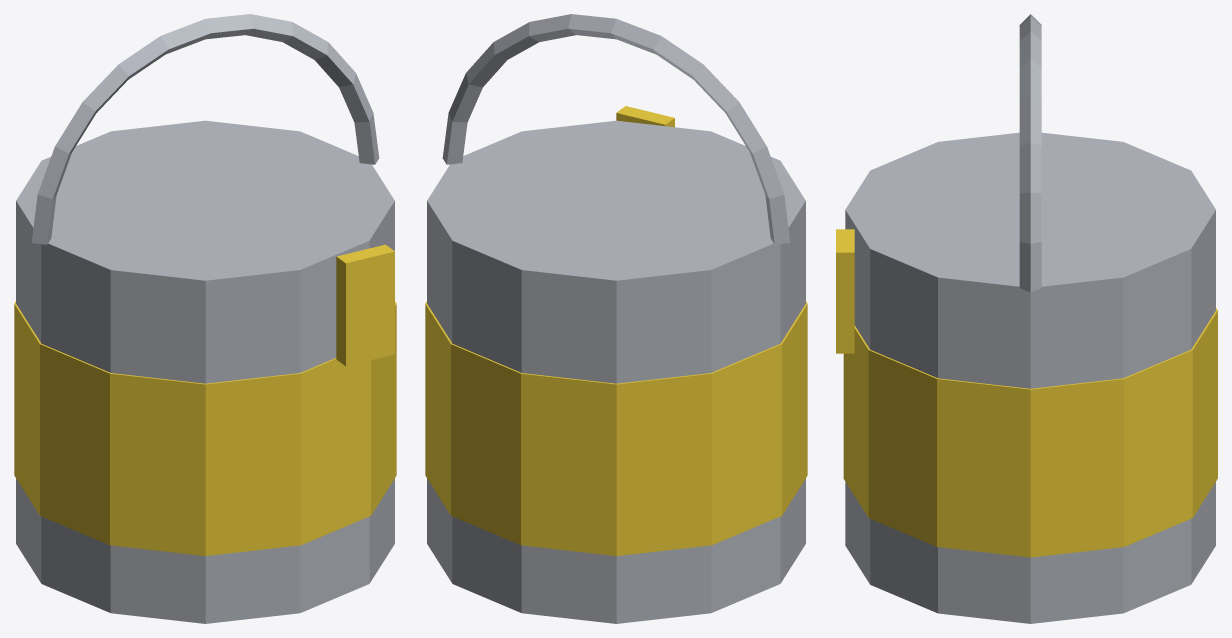
The model's file is bowl_paint_can.glb.
The picture shows the model from 3 angles, left to right: view 1: azimuth 30°, elevation 25°; view 2: azimuth 150°, elevation 25°; view 3: azimuth 270°, elevation 25°; orthographic projection. The views are drawn at different scales.
Visible parts, largest first — view 1: can_can_metal, paint_paint_yellow, handle_can_metal, drip_paint_yellow; view 2: can_can_metal, paint_paint_yellow, handle_can_metal, drip_paint_yellow; view 3: can_can_metal, paint_paint_yellow, handle_can_metal, drip_paint_yellow.
Boxes of the visible parts, bbox=[...] form: can_can_metal: bbox=[16, 120, 394, 623]; paint_paint_yellow: bbox=[14, 301, 396, 555]; handle_can_metal: bbox=[31, 14, 379, 244]; drip_paint_yellow: bbox=[336, 244, 394, 366]; can_can_metal: bbox=[427, 120, 805, 623]; paint_paint_yellow: bbox=[425, 301, 807, 555]; handle_can_metal: bbox=[442, 14, 790, 244]; drip_paint_yellow: bbox=[616, 106, 674, 127]; can_can_metal: bbox=[845, 132, 1215, 623]; paint_paint_yellow: bbox=[843, 308, 1217, 557]; handle_can_metal: bbox=[1019, 14, 1041, 292]; drip_paint_yellow: bbox=[836, 229, 854, 353].
Bounding box in the file's own units: 0.212 × 0.306 × 0.206.
